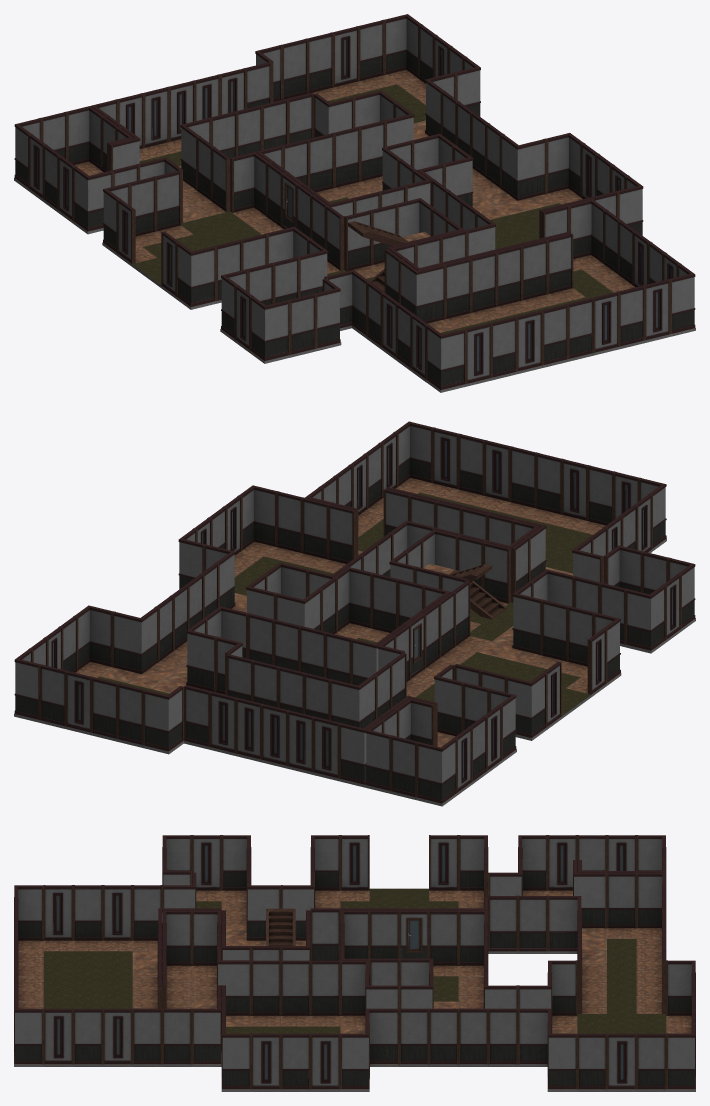
File: Mansion.fbx
The picture shows the model from 3 angles, top to bottom: view 1: azimuth 30°, elevation 25°; view 2: azimuth 150°, elevation 25°; view 3: azimuth 270°, elevation 25°; orthographic projection.
Parts seen in each view (by area): view 1: Wall_Corner_Invert.006, Wall_Corner_Invert.009, Wal_Corner.028, Wal_Corner.023, Wal_Corner.016, Wal_Corner.017, Wal_Corner.003, Wal_Corner.011, Wal_Corner.026, Wal_Corner.014, Wal_Corner.020, Wall_02.091 (+98 smaller); view 2: Wall_Corner_Invert.001, Wall_Corner_Invert.012, Wal_Corner.019, Wal_Corner.024, Wal_Corner.007, Wal_Corner.015, Wal_Corner.004, Wal_Corner.012, Wall_Corner_Invert.002, Wal_Corner.009, Wal_Corner.029, Wall_Corner_Invert.013 (+98 smaller); view 3: Wall_Corner_Invert.013, Wall_Corner_Invert.008, Wall_02.065, Wall_Window_Colored.025, Wall_Corner_Invert.011, Wall_02.062, Wall_02.064, Wall_02.089, Wall_02.107, Wall_Window_Colored.007, Wall_Window_Colored.008, Wall_Window_Colored.024 (+76 smaller).
Boxes of the visible parts, x1,y1,x2,y2 form: Wall_Corner_Invert.006: [479, 134, 558, 215]; Wall_Corner_Invert.009: [399, 259, 457, 332]; Wal_Corner.028: [176, 242, 216, 309]; Wal_Corner.023: [250, 296, 290, 363]; Wal_Corner.016: [426, 325, 465, 392]; Wal_Corner.017: [230, 152, 269, 221]; Wal_Corner.003: [383, 14, 421, 84]; Wal_Corner.011: [545, 133, 584, 202]; Wal_Corner.026: [65, 106, 104, 174]; Wal_Corner.014: [567, 199, 606, 269]; Wal_Corner.020: [73, 166, 113, 234]; Wall_02.091: [495, 245, 534, 315]; Wall_Corner_Invert.001: [100, 607, 180, 688]; Wall_Corner_Invert.012: [477, 581, 543, 664]; Wal_Corner.019: [416, 738, 457, 806]; Wal_Corner.024: [625, 585, 665, 653]; Wal_Corner.007: [143, 686, 183, 754]; Wal_Corner.015: [394, 421, 434, 492]; Wal_Corner.004: [74, 605, 113, 676]; Wal_Corner.012: [238, 485, 277, 556]; Wall_Corner_Invert.002: [151, 618, 217, 693]; Wal_Corner.009: [333, 567, 373, 637]; Wal_Corner.029: [506, 672, 546, 740]; Wall_Corner_Invert.013: [330, 674, 376, 728]; Wall_Corner_Invert.013: [547, 895, 606, 963]; Wall_Corner_Invert.008: [192, 947, 251, 1026]; Wall_02.065: [310, 960, 340, 1026]; Wall_Window_Colored.025: [43, 885, 73, 951]; Wall_Corner_Invert.011: [226, 872, 280, 945]; Wall_02.062: [281, 960, 310, 1026]; Wall_02.064: [251, 960, 280, 1026]; Wall_02.089: [73, 885, 102, 951]; Wall_02.107: [607, 872, 636, 938]; Wall_Window_Colored.007: [429, 835, 458, 901]; Wall_Window_Colored.008: [340, 835, 369, 901]; Wall_Window_Colored.024: [103, 885, 132, 951].
Size of the model in its own units: 3200 by 420 by 4600.
